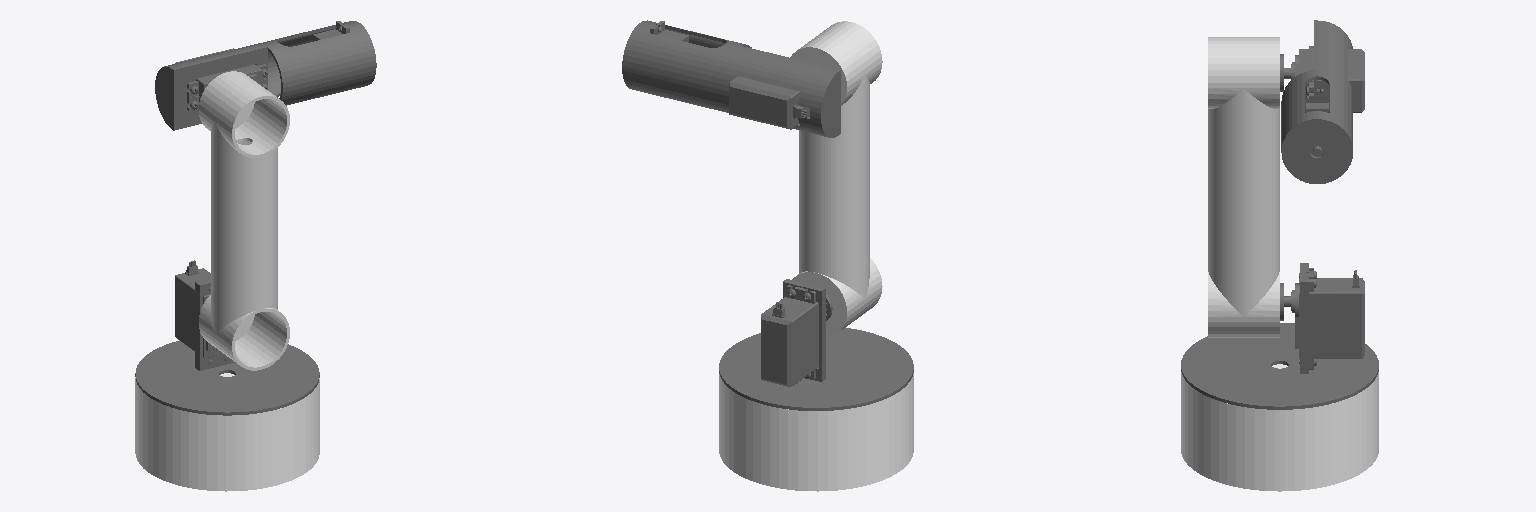
The robot description file, URDF, robot "roboassem":
<?xml version="1.0" encoding="utf-8"?>

<!-- This URDF was automatically created by SolidWorks to URDF Exporter! Originally created by Stephen Brawner (brawner@gmail.com) 
     Commit Version: 1.6.0-4-g7f85cfe  Build Version: 1.6.7995.38578
     For more information, please see http://wiki.ros.org/sw_urdf_exporter -->

<robot name="roboassem">

  <!-- base -->

    <link name= "base">
      <inertial>
        <origin
          xyz="-5.6544E-10 0.0032663 0.024781"
          rpy="0 0 0" />
        <mass value="0.077397" />
        <inertia
          ixx="7.6666E-05"
          ixy="1.5618E-13"
          ixz="6.4688E-13"
          iyy="6.7884E-05"
          iyz="6.1994E-07"
          izz="0.00012057" />
      </inertial>
      <visual>
        <origin
          xyz="0 0 0"
          rpy="0 0 0" />
        <geometry>
          <mesh filename="package://aries/meshes/roboassem/base.STL" />
        </geometry>
        <material name="">
          <color rgba="1 1 1 1" />
        </material>
      </visual>
      <collision>
        <origin
          xyz="0 0 0"
          rpy="0 0 0" />
        <geometry>
          <mesh filename="package://aries/meshes/roboassem/base.STL" />
        </geometry>
      </collision>
    </link>

  <!-- rotate1 -->

    <link name= "rotate1">
      <inertial>
        <origin
          xyz="7.8652E-10 0.017196 0.01967"
          rpy="0 0 0" />
        <mass value="0.055642" />
        <inertia
          ixx="2.7614E-05"
          ixy="6.4688E-13"
          ixz="1.5618E-13"
          iyy="2.3831E-05"
          iyz="-6.5307E-07"
          izz="3.5251E-05" />
      </inertial>
      <visual>
        <origin
          xyz="0 0 0"
          rpy="0 0 0" />
        <geometry>
          <mesh filename="package://aries/meshes/roboassem/rotate1.STL" />
        </geometry>
        <material name="">
          <color rgba="0.5 0.5 0.5 1" />
        </material>
      </visual>
      <collision>
        <origin
          xyz="0 0 0"
          rpy="0 0 0" />
        <geometry>
          <mesh filename="package://aries/meshes/roboassem/rotate1.STL" />
        </geometry>
      </collision>
    </link>
    <joint name="jrotate1"  type="revolute">                <!-- JOINT -->
      <origin
        xyz="0 0 0.051"
        rpy="0 0 0" />
      <parent link="base" />
      <child link="rotate1" />
      <axis xyz="0 0 1" />
      <limit
        lower="-1.8"
        upper="1.2"
        effort="0"
        velocity="0" />
      <safety_controller
        soft_upper_limit="1.3"
        soft_lower_limit="-1.7"
        k_velocity="0" />
    </joint>

  <!-- link1 -->

    <link name= "link1">
      <inertial>
        <origin
          xyz="3.0531E-07 0.0024668 0.070335"
          rpy="0 0 0" />
        <mass value="0.0493" />
        <inertia
          ixx="0.00015198"
          ixy="6.142E-10"
          ixz="3.4562E-10"
          iyy="0.00015254"
          iyz="5.5341E-10"
          izz="1.7276E-05" />
      </inertial>
      <visual>
        <origin
          xyz="0 0 0"
          rpy="0 0 0" />
        <geometry>
          <mesh filename="package://aries/meshes/roboassem/link1.STL" />
        </geometry>
        <material name="">
          <color rgba="0.89412 0.89412 0.89412 1" />
        </material>
      </visual>
      <collision>
        <origin
          xyz="0 0 0"
          rpy="0 0 0" />
        <geometry>
          <mesh filename="package://aries/meshes/roboassem/link1.STL" />
        </geometry>
      </collision>
    </link>
    <joint name="jlink1"  type="revolute">                <!-- JOINT -->
      <origin
        xyz="0 -0.021019 0.039215"
        rpy="0 0 0" />
      <parent link="rotate1" />
      <child link="link1" />
      <axis xyz="0 1 0" />
      <limit
        lower="-1.222"
        upper="1.92"
        effort="0"
        velocity="0" />
      <safety_controller
        soft_upper_limit="1.85"
        soft_lower_limit="-1.15"
        k_velocity="0" />
    </joint>

  <!-- link2 -->

    <link name= "link2">
      <inertial>
        <origin
          xyz="0.032867 0.020587 0.00045109"
          rpy="0 0 0" />
        <mass value="0.067771" />
        <inertia
          ixx="1.4311E-05"
          ixy="2.6105E-06"
          ixz="1.6958E-07"
          iyy="5.7937E-05"
          iyz="-6.7336E-09"
          izz="6.0741E-05" />
      </inertial>
      <visual>
        <origin
          xyz="0 0 0"
          rpy="0 0 0" />
        <geometry>
          <mesh filename="package://aries/meshes/roboassem/link2.STL" />
        </geometry>
        <material name="">
          <color rgba="0.5 0.5 0.5 1" />
        </material>
      </visual>
      <collision>
        <origin
          xyz="0 0 0"
          rpy="0 0 0" />
        <geometry>
          <mesh filename="package://aries/meshes/roboassem/link2.STL" />
        </geometry>
      </collision>
    </link>
    <joint name="jlink2"  type="revolute">                <!-- JOINT -->
      <origin
        xyz="0 0.025219 0.14033"
        rpy="0 0 0" />
      <parent link="link1" />
      <child link="link2" />
      <axis xyz="0 -1 0" />
      <limit
        lower="-1.222"
        upper="1.92"
        effort="0"
        velocity="0" />
      <safety_controller
        soft_upper_limit="1.85"
        soft_lower_limit="-1.15"
        k_velocity="0" />
    </joint>

  <!-- rotate2 -->

    <link name= "rotate2">
      <inertial>
        <origin
          xyz="0.011055 -0.0037097 2.4286E-05"
          rpy="0 0 0" />
        <mass value="0.016695" />
        <inertia
          ixx="2.3879E-06"
          ixy="4.2263E-07"
          ixz="-5.8312E-09"
          iyy="2.2937E-06"
          iyz="1.5232E-09"
          izz="2.7413E-06" />
      </inertial>
      <visual>
        <origin
          xyz="0 0 0"
          rpy="0 0 0" />
        <geometry>
          <mesh filename="package://aries/meshes/roboassem/rotate2.STL" />
        </geometry>
        <material name="">
          <color rgba="0.25098 0.25098 0.25098 1" />
        </material>
      </visual>
      <collision>
        <origin
          xyz="0 0 0"
          rpy="0 0 0" />
        <geometry>
          <mesh filename="package://aries/meshes/roboassem/rotate2.STL" />
        </geometry>
      </collision>
    </link>
    <joint name="jrotate2"  type="revolute">                 <!--JOINT-->
      <origin
        xyz="0.10788 0.01655 0"
        rpy="0 0 0" />
      <parent link="link2" />
      <child link="rotate2" />
      <axis xyz="-1 0 0" />
      <limit
        lower="-1.57"
        upper="1.57"
        effort="0"
        velocity="0" />
      <safety_controller
        soft_upper_limit="1.5"
        soft_lower_limit="-1.5"
        k_velocity="0" />
    </joint>

  <!-- end -->

    <link name= "end">
      <inertial>
        <origin
          xyz="0.020161 0.0045965 8.9879E-09"
          rpy="0 0 0" />
        <mass value="0.021086" />
        <inertia
          ixx="4.5047E-06"
          ixy="-4.5642E-07"
          ixz="8.1657E-13"
          iyy="4.5609E-06"
          iyz="-1.909E-12"
          izz="4.8659E-06" />
      </inertial>
      <visual>
        <origin
          xyz="0 0 0"
          rpy="0 0 0" />
        <geometry>
          <mesh filename="package://aries/meshes/roboassem/end.STL" />
        </geometry>
        <material name="">
          <color rgba="1 1 1 1" />
        </material>
      </visual>
      <collision>
        <origin
          xyz="0 0 0"
          rpy="0 0 0" />
        <geometry>
          <mesh filename="package://aries/meshes/roboassem/end.STL" />
        </geometry>
      </collision>
    </link>
    <joint name="jend"  type="revolute">                <!-- JOINT -->
      <origin
        xyz="0.026025 -0.0278 0"
        rpy="0 0 0" />
      <parent link="rotate2" />
      <child link="end" />
      <axis xyz="0 -1 0" />
      <limit
        lower="-1.57"
        upper="1.57"
        effort="0"
        velocity="0" />
      <safety_controller
        soft_upper_limit="1.5"
        soft_lower_limit="-1.5"
        k_velocity="0" />
    </joint>
</robot>

--- Render facts (derived) ---
Views: 3 orthographic renders of the robot side by side, from view 1: azimuth 30°, elevation 25°; view 2: azimuth 150°, elevation 25°; view 3: azimuth 270°, elevation 25°.
Robot: roboassem — 6 links, 5 joints (5 revolute); root link base; default pose: all joints at 0.
Visible links, largest first — view 1: link1, base, rotate1, link2; view 2: link1, base, rotate1, link2; view 3: link1, rotate1, base, link2.
Boxes of the visible links, x1,y1,x2,y2 form: link1: (199,71,289,370); base: (135,373,319,491); rotate1: (135,260,319,415); link2: (155,21,376,130); link1: (790,21,882,337); base: (719,373,913,491); rotate1: (719,279,913,410); link2: (622,20,840,137); link1: (1208,37,1279,337); rotate1: (1181,263,1378,409); base: (1181,364,1378,491); link2: (1280,20,1364,183).
Size in the robot's own frame: 0.1595 by 0.11 by 0.2519 metres.
4 mesh visuals loaded from 6 distinct referenced files (4 binary STL); not drawn: 2 (file found but could not be loaded).
